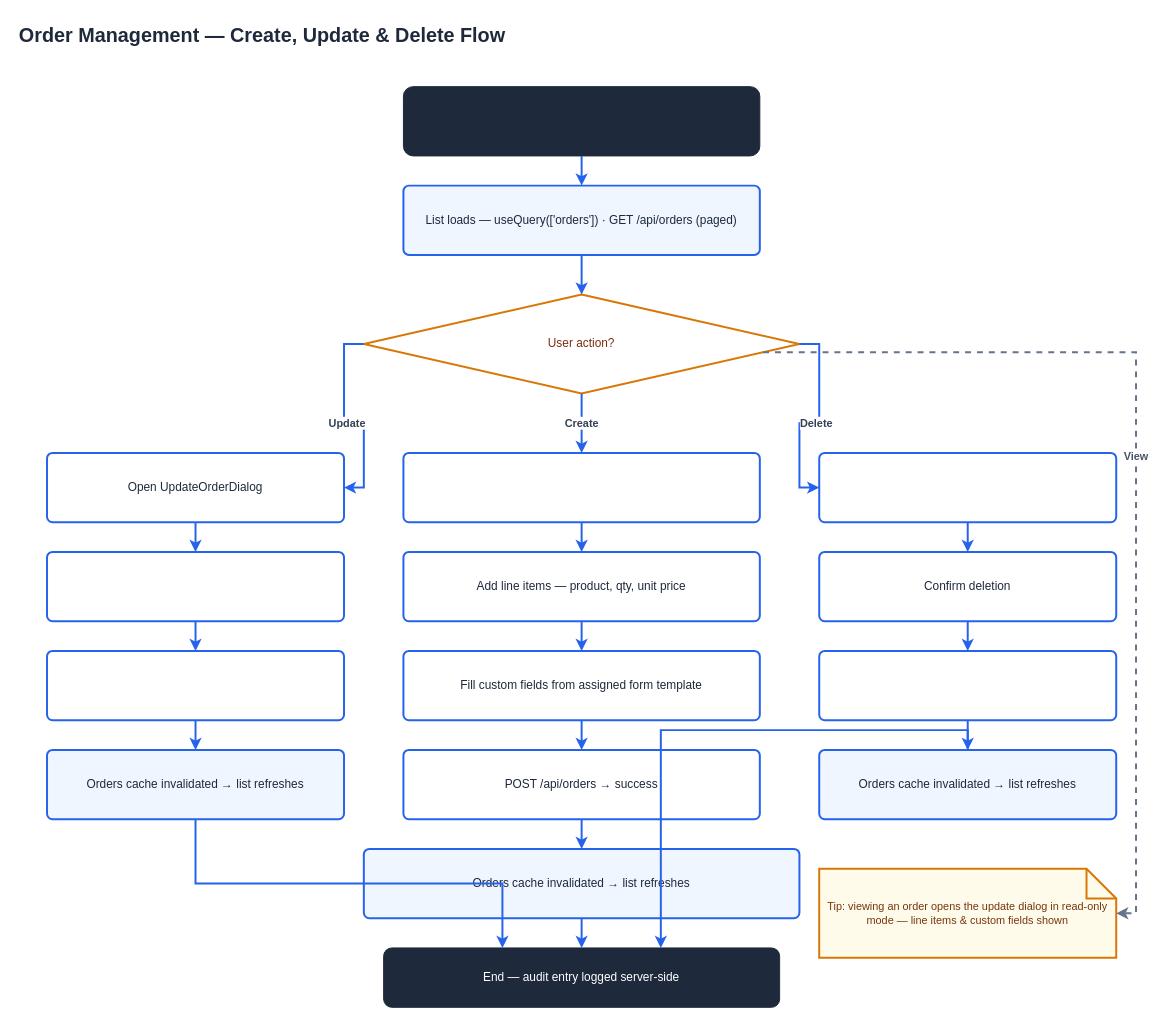
Some shapes in this 1165 by 1025 pixel diagram are drawn without their labels. Here are the shapes that lost their labels. From the top down, the centre of each, then its label:
the point at 581,121: User opens Orders page (permission: orders.view)
the point at 581,487: CreateOrderDialog opens — select customer
the point at 967,487: Open DeleteOrderDialog
the point at 195,586: Edit items · status · custom fields
the point at 195,685: PUT /api/orders/:id
the point at 967,685: DELETE /api/orders/:id
